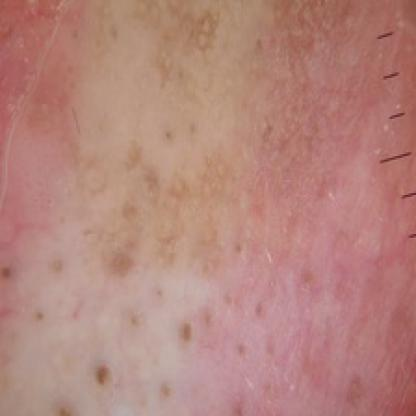malignant: (11, 13, 338, 351)
